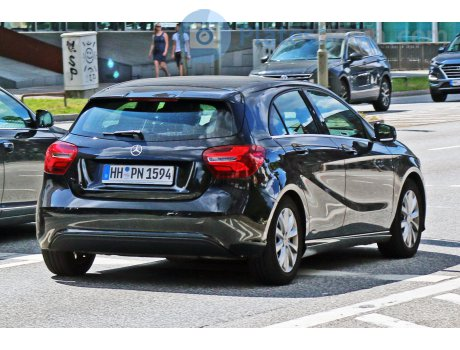License Plates: (109, 159, 173, 182)
